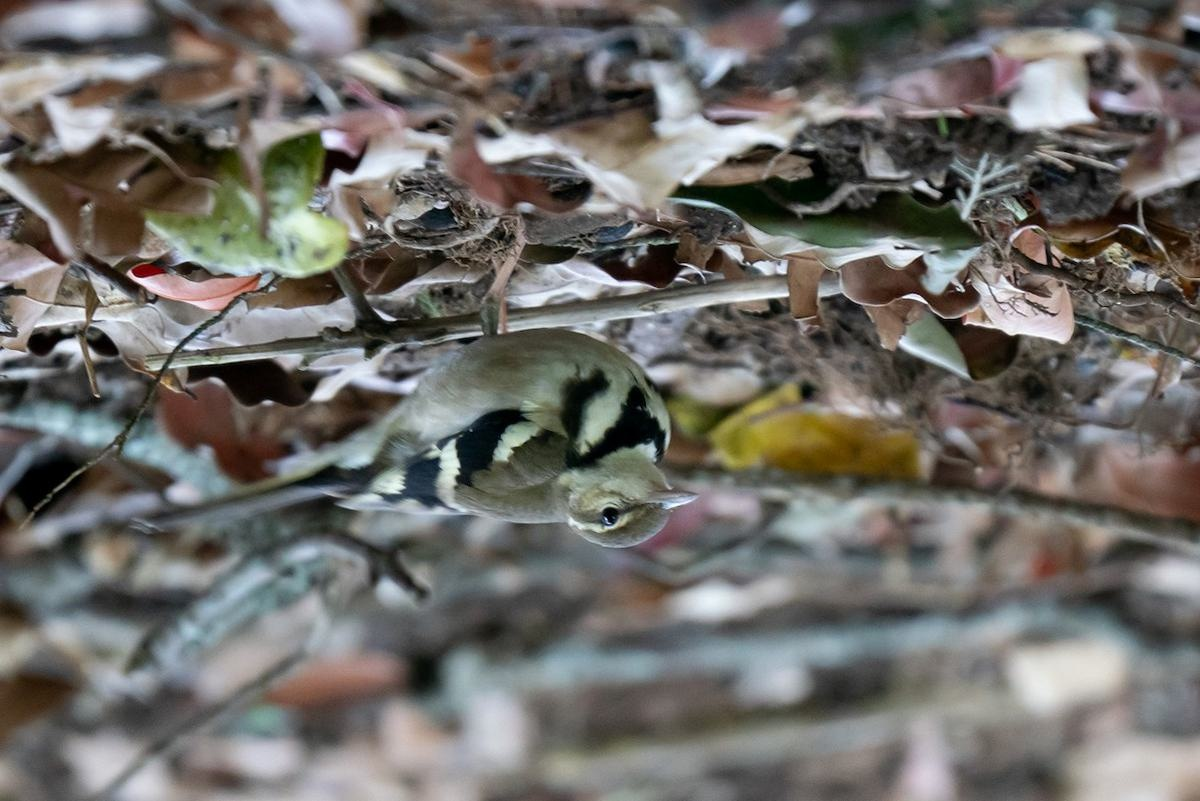wagtail: (299, 302, 736, 548)
